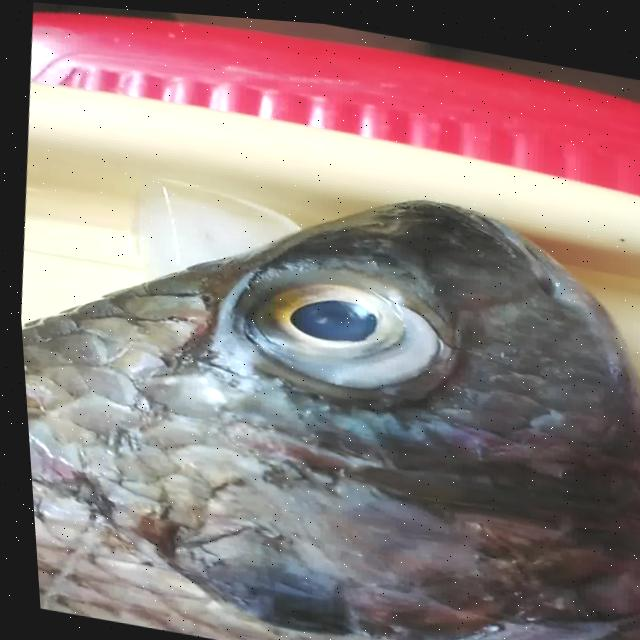Fresh: (176, 220, 470, 417)
